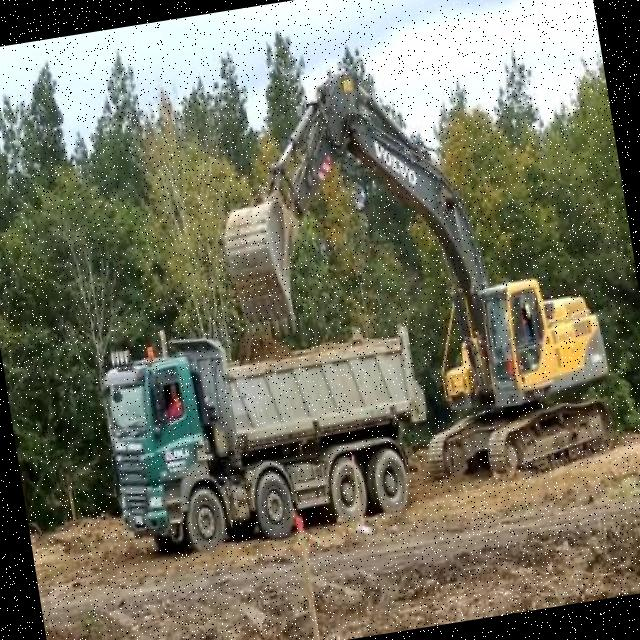Dump Truck: (90, 285, 443, 562)
Excavator: (200, 34, 624, 514)
